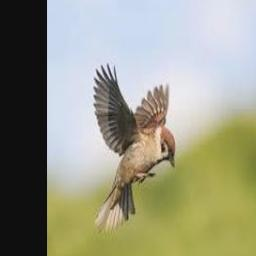Sparrow: (94, 63, 176, 233)
